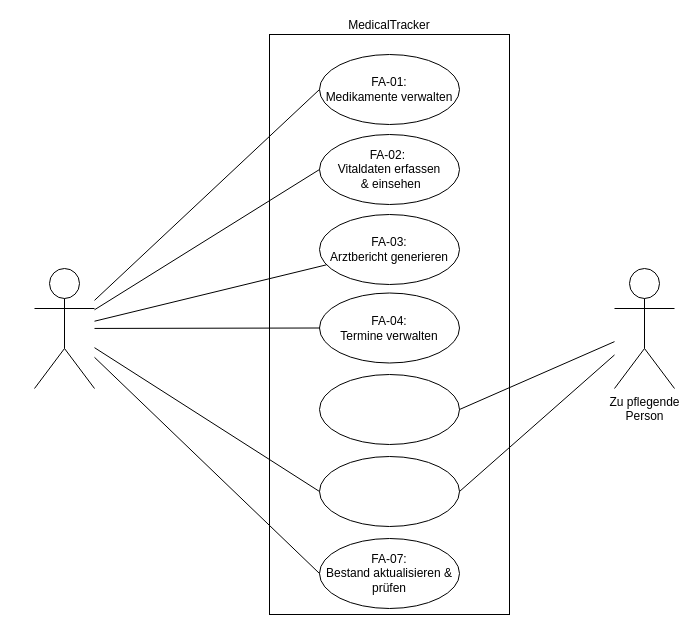
Image size: 697x632. Some labels were removed from this diagram. The centre of each missing label's shape, as x and y in pixels:
"FA-05: Barrierefreie Tagesansicht einsehen" belongs at (389,409).
"FA-06: Einnahme bestätigen" belongs at (389,491).
"Pflegende Person" belongs at (64,328).
